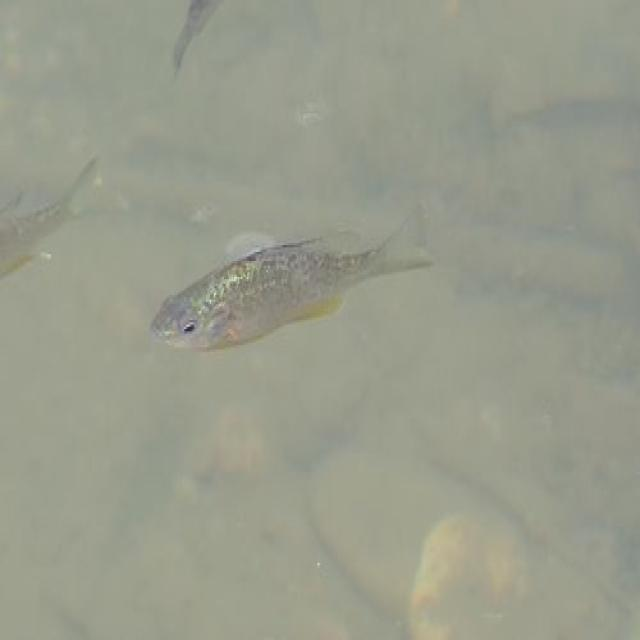Gunes Levregi: (150, 203, 437, 361)
